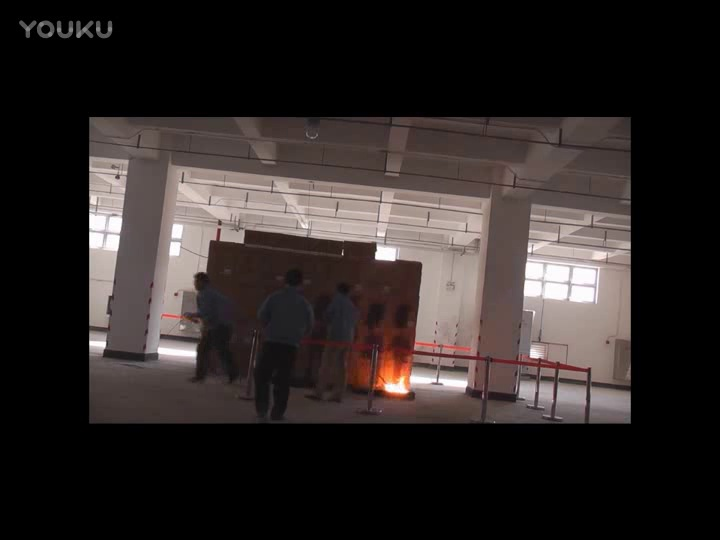fire: (381, 343, 415, 398)
